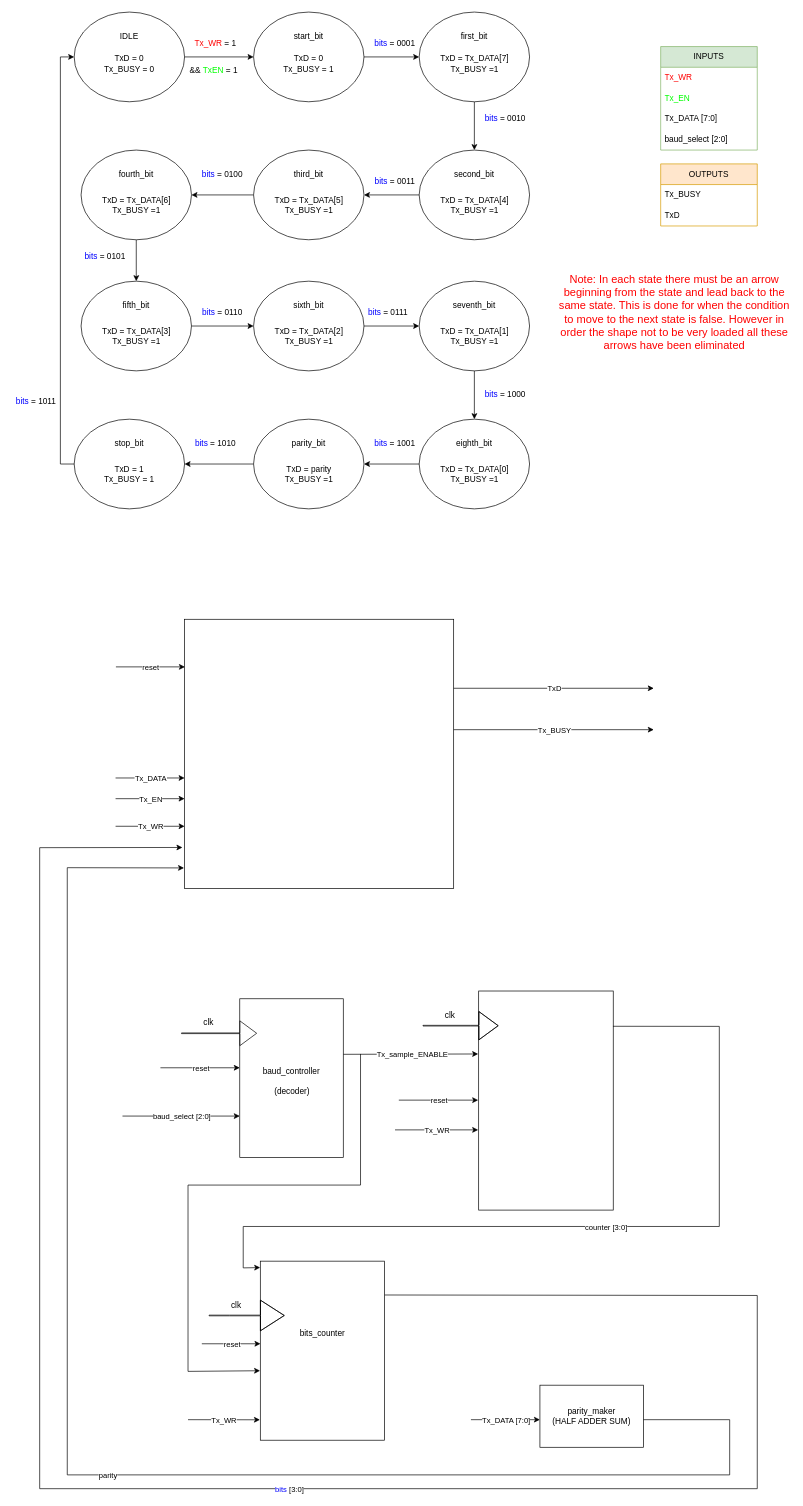
The diagram is 803 pixels wide and 1506 high, and some of its shapes have lost their labels. The shapes that lost their labels are listed below. From the top down, each one's centre as x and y in pixels, then its label:
(319,753): FSM
(545,1100): counter
